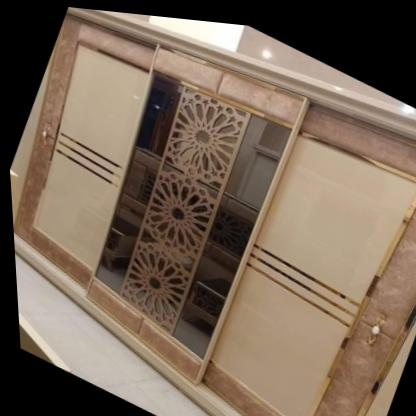Ceramic floor: (12, 252, 210, 416)
Closet: (10, 6, 416, 416)
